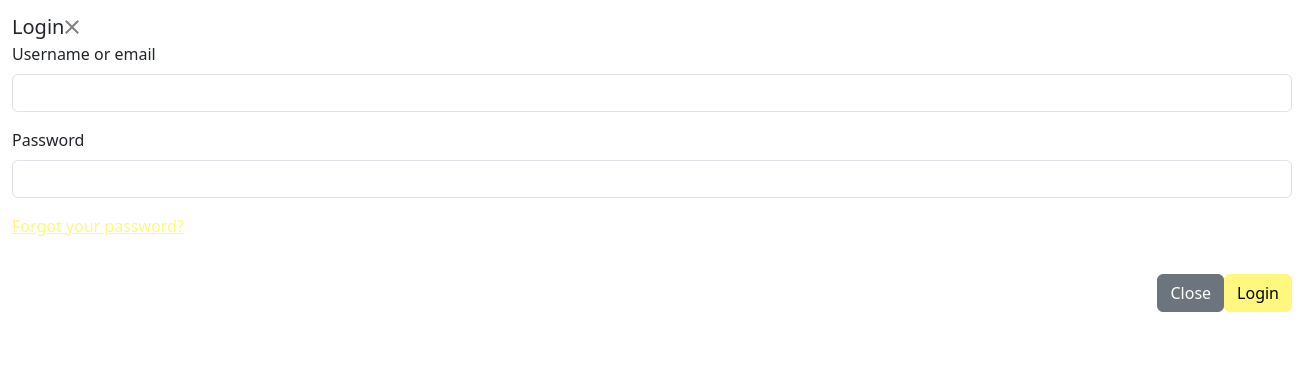
Test case: Login Modal › displays error message
Click the button "Login". click: (1258, 293)
box: [1224, 274, 1292, 312]
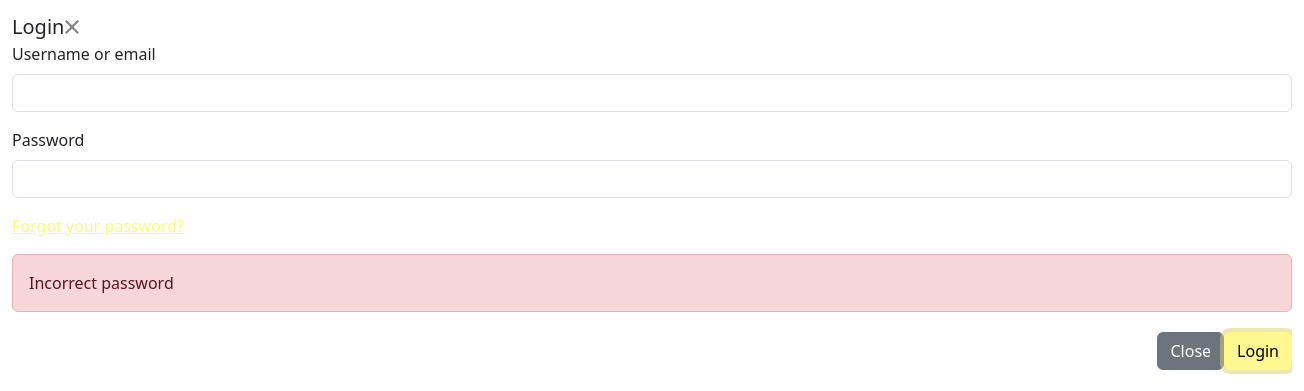
Check: the message "Incorrect password" is shown, box [12, 254, 1292, 312]
